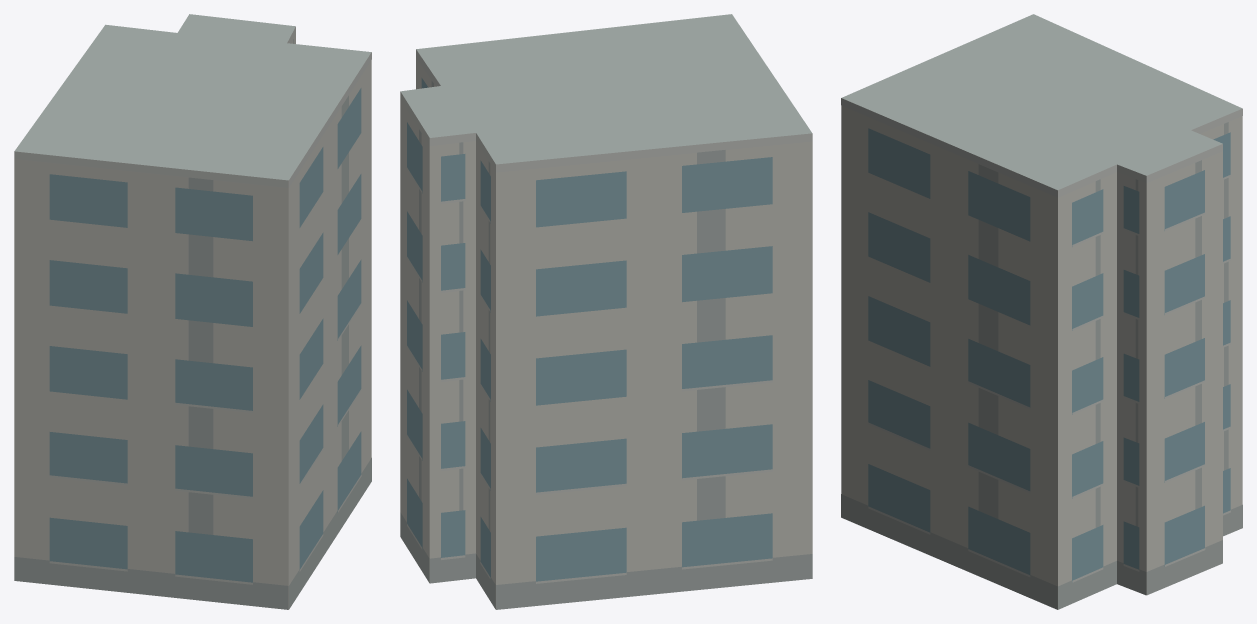
File: survey-upis-32568532.glb
3 views of the same model, side by side, from view 1: azimuth 30°, elevation 25°; view 2: azimuth 150°, elevation 25°; view 3: azimuth 270°, elevation 25° (orthographic). The views are drawn at different scales.
Visible parts, largest first — view 1: survey-upis-32568532.tmp; view 2: survey-upis-32568532.tmp; view 3: survey-upis-32568532.tmp.
Boxes of the visible parts, box(x1,y1,x2,y2) form: survey-upis-32568532.tmp: box(14, 14, 371, 609); survey-upis-32568532.tmp: box(400, 14, 812, 609); survey-upis-32568532.tmp: box(841, 14, 1242, 609).
Size of the model in its own units: 12.35 by 13.7 by 11.89.
